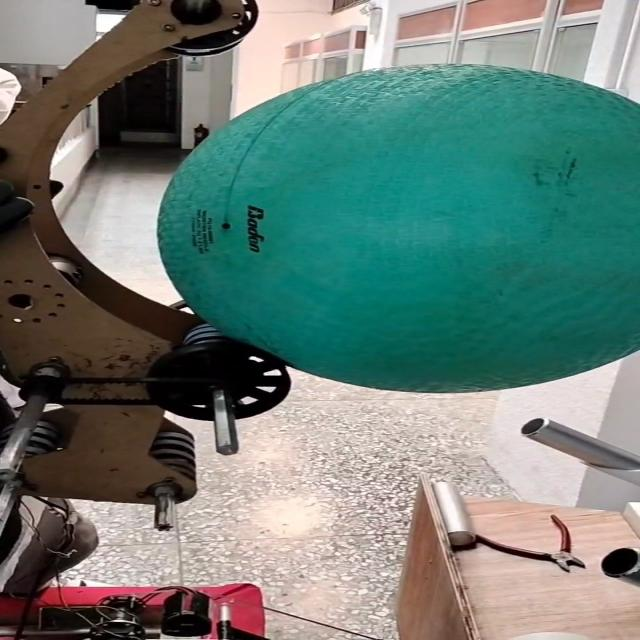ALGAE: (148, 60, 640, 392)
